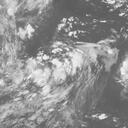cyclone: (26, 41, 98, 104)
